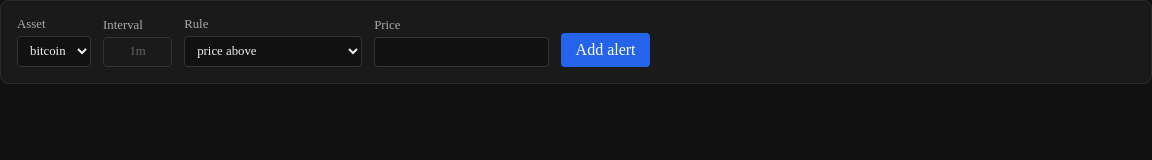
Test case: AlertForm — validation › shows "Provide low < high" when range low >= high
Select "price in range" in the dropdown labelled "Rule" at (273, 51), box x1=184 y1=36 x2=362 y2=67
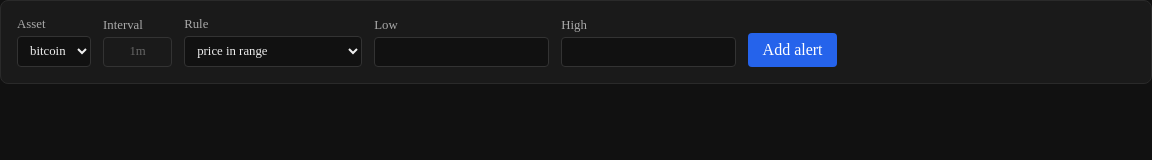
Type "60000" into the number field labelled "Low".
click(462, 52); type("60000")  # box x1=374 y1=37 x2=549 y2=67
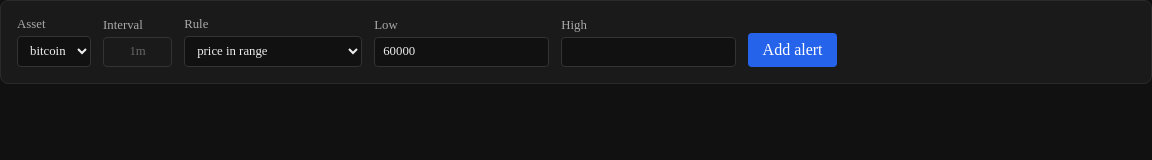
Type "40000" into the number field labelled "High".
click(649, 52); type("40000")  # box x1=561 y1=37 x2=736 y2=67
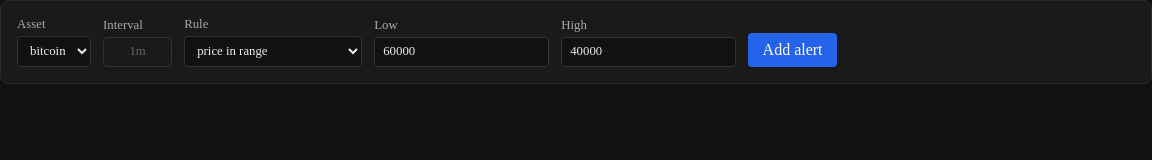
Click the button "Add alert".
click(793, 50)  # box x1=748 y1=33 x2=837 y2=67
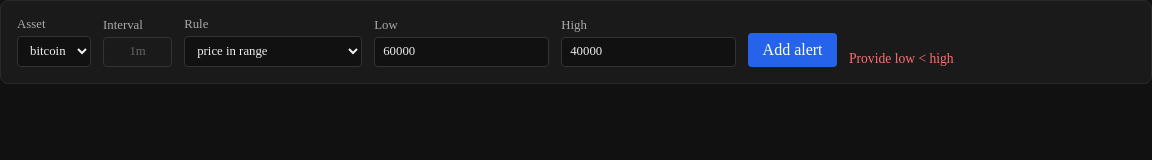
Now the text "Provide low < high" is shown, box x1=849 y1=51 x2=954 y2=67
